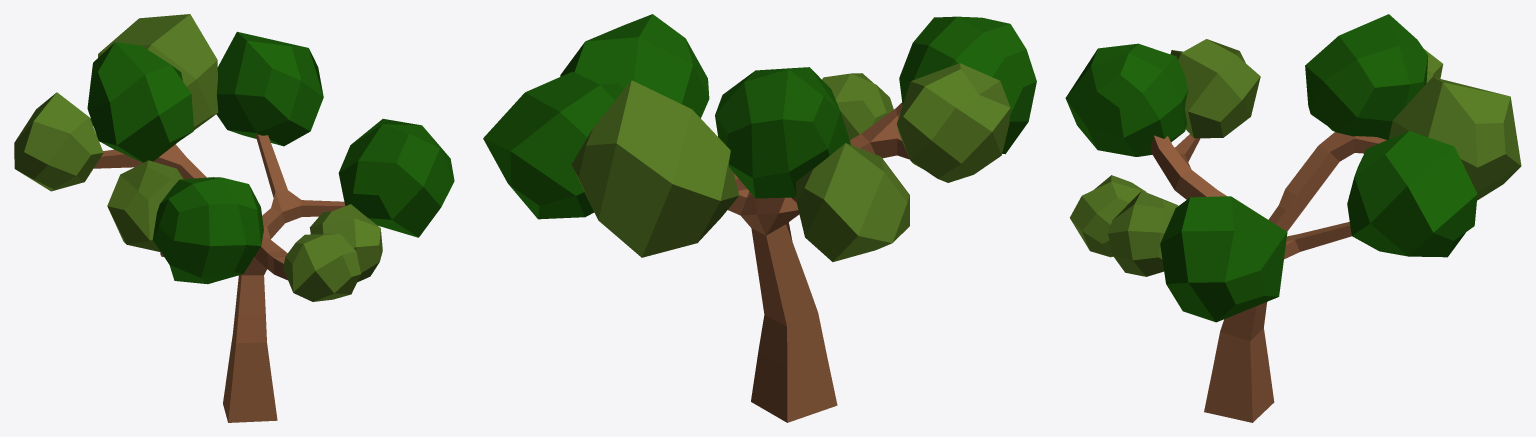
The model's file is ArbolM.fbx.
3 renders of one model, left to right at view 1: azimuth 30°, elevation 25°; view 2: azimuth 150°, elevation 25°; view 3: azimuth 270°, elevation 25°, orthographic. The views are drawn at different scales.
Parts seen in each view (by area): view 1: Cube; view 2: Cube; view 3: Cube.
Boxes of the visible parts, left/top/right/bottom form: Cube: left=14, top=14, right=454, bottom=422; Cube: left=483, top=14, right=1036, bottom=422; Cube: left=1065, top=14, right=1521, bottom=422.
Size of the model in its own units: 3.29 by 2.99 by 3.44.
